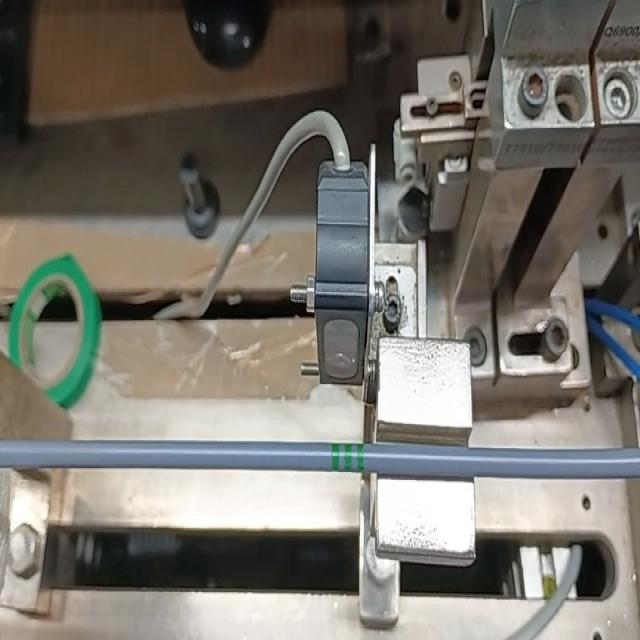green: (331, 442, 366, 472)
